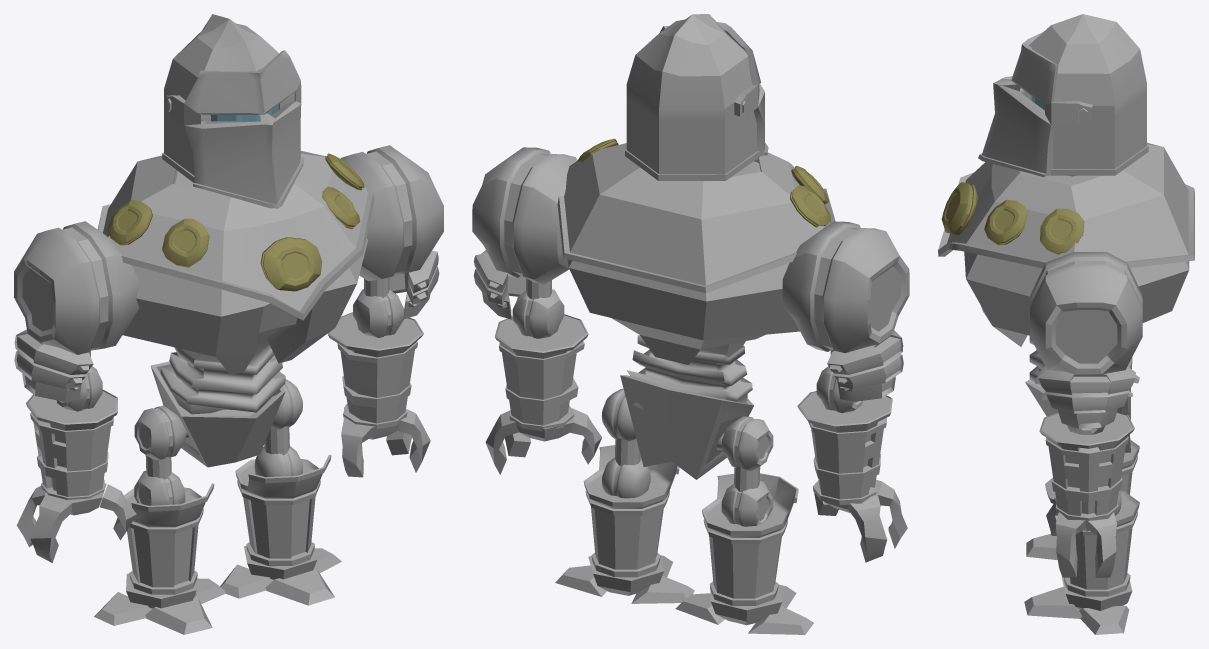
Rendered from Robot-6.fbx.
3 renders of one model, left to right at view 1: azimuth 30°, elevation 25°; view 2: azimuth 150°, elevation 25°; view 3: azimuth 270°, elevation 25°, orthographic. The views are drawn at different scales.
Visible parts, largest first — view 1: polySurface44, polySurface80, polySurface47, polySurface28, polySurface72, polySurface24, polySurface69, polySurface23, polySurface81, polySurface75, polySurface17, polySurface12 (+25 smaller); view 2: polySurface44, polySurface81, polySurface47, polySurface28, polySurface72, polySurface12, polySurface75, polySurface24, polySurface69, polySurface23, polySurface17, polySurface74 (+20 smaller); view 3: polySurface44, polySurface81, polySurface72, polySurface80, polySurface47, polySurface24, polySurface73, polySurface23, polySurface49, polySurface43, polySurface82, polySurface58 (+7 smaller).
Part boxes in pixels (box(x1,y1,x2,y2)): polySurface44: box(97, 151, 374, 320); polySurface80: box(165, 50, 303, 208); polySurface47: box(122, 170, 367, 374); polySurface28: box(14, 221, 139, 354); polySurface72: box(341, 145, 443, 281); polySurface24: box(327, 312, 423, 429); polySurface69: box(26, 389, 117, 499); polySurface23: box(235, 454, 331, 566); polySurface81: box(162, 14, 294, 182); polySurface75: box(124, 483, 214, 594); polySurface17: box(160, 338, 285, 414); polySurface12: box(150, 361, 285, 467); polySurface44: box(557, 143, 835, 293); polySurface81: box(625, 14, 759, 180); polySurface47: box(567, 161, 799, 364); polySurface28: box(782, 221, 909, 352); polySurface72: box(472, 147, 577, 284); polySurface12: box(620, 375, 753, 479); polySurface75: box(702, 473, 798, 605); polySurface24: box(494, 314, 588, 431); polySurface69: box(797, 391, 892, 505); polySurface23: box(583, 445, 679, 577); polySurface17: box(626, 335, 752, 409); polySurface74: box(827, 330, 903, 401); polySurface44: box(938, 142, 1194, 268); polySurface81: box(1029, 14, 1148, 175); polySurface72: box(1030, 252, 1142, 374); polySurface80: box(978, 32, 1092, 177); polySurface47: box(964, 171, 1189, 346); polySurface24: box(1039, 412, 1134, 522); polySurface73: box(1034, 366, 1139, 428); polySurface23: box(1045, 478, 1139, 596); polySurface49: box(1040, 208, 1084, 254); polySurface43: box(984, 199, 1027, 245); polySurface82: box(941, 182, 978, 234); polySurface58: box(1055, 513, 1085, 577).
Bounding box in the file's own units: 14.64 × 19.76 × 8.09.
